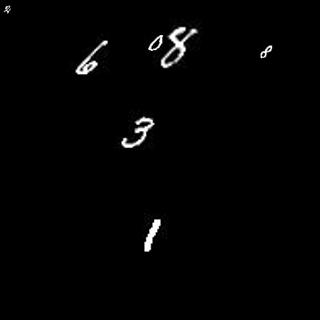eight: (160, 23, 197, 68), (256, 42, 275, 61)
one: (143, 214, 163, 253)
six: (76, 37, 110, 77)
three: (116, 116, 153, 149)
two: (1, 3, 14, 16)
zero: (143, 33, 165, 55)
